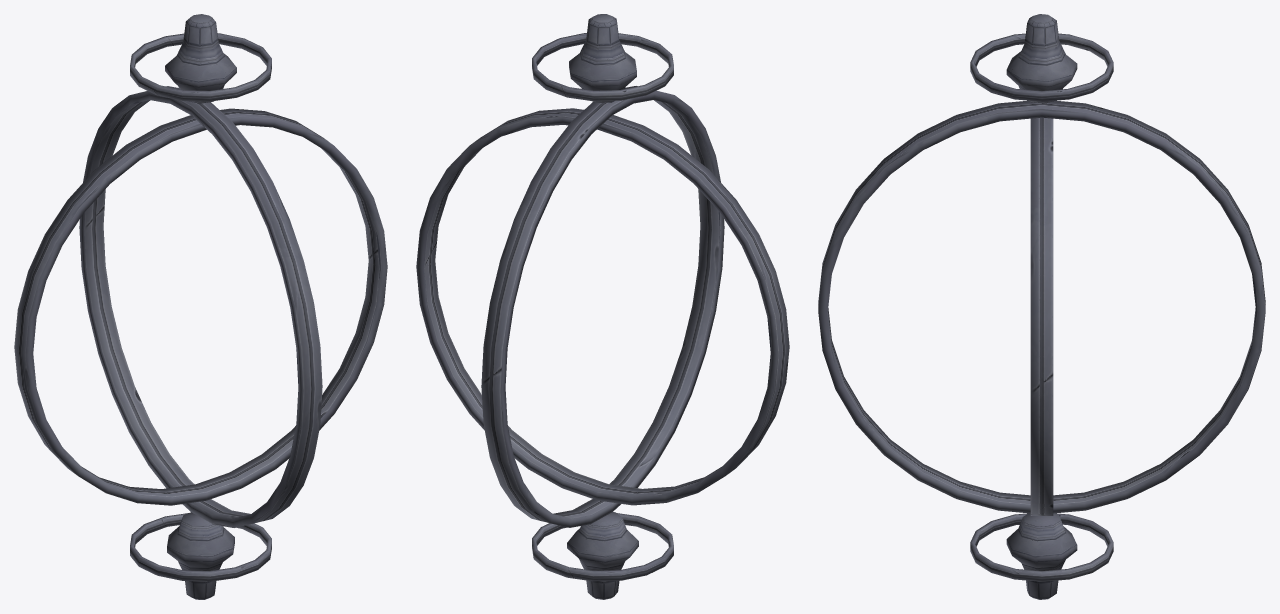
The model's file is LanternArcaneCenterPivot.fbx.
3 views of the same model, side by side, from view 1: azimuth 30°, elevation 25°; view 2: azimuth 150°, elevation 25°; view 3: azimuth 270°, elevation 25° (orthographic).
Parts seen in each view (by area): view 1: Cylinder; view 2: Cylinder; view 3: Cylinder.
Part boxes in pixels (bbox=[...]): Cylinder: bbox=[14, 14, 387, 599]; Cylinder: bbox=[416, 14, 789, 599]; Cylinder: bbox=[818, 14, 1265, 599].
Size of the model in its own units: 187 by 286 by 200.
